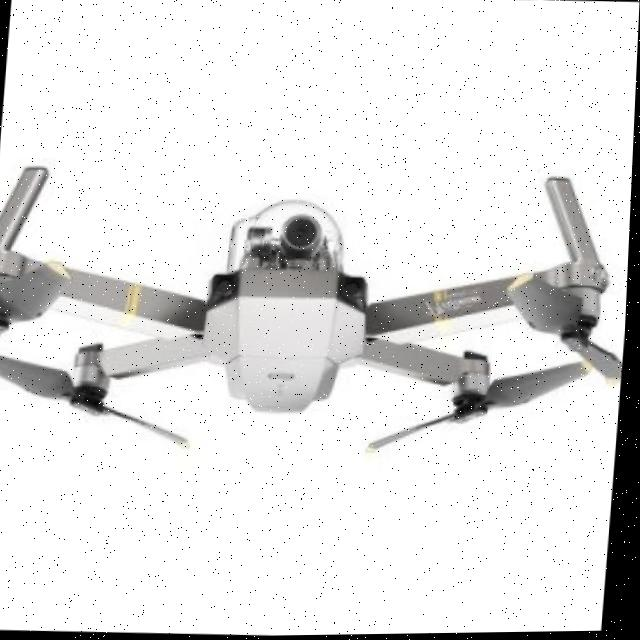drones: (0, 108, 636, 481)
